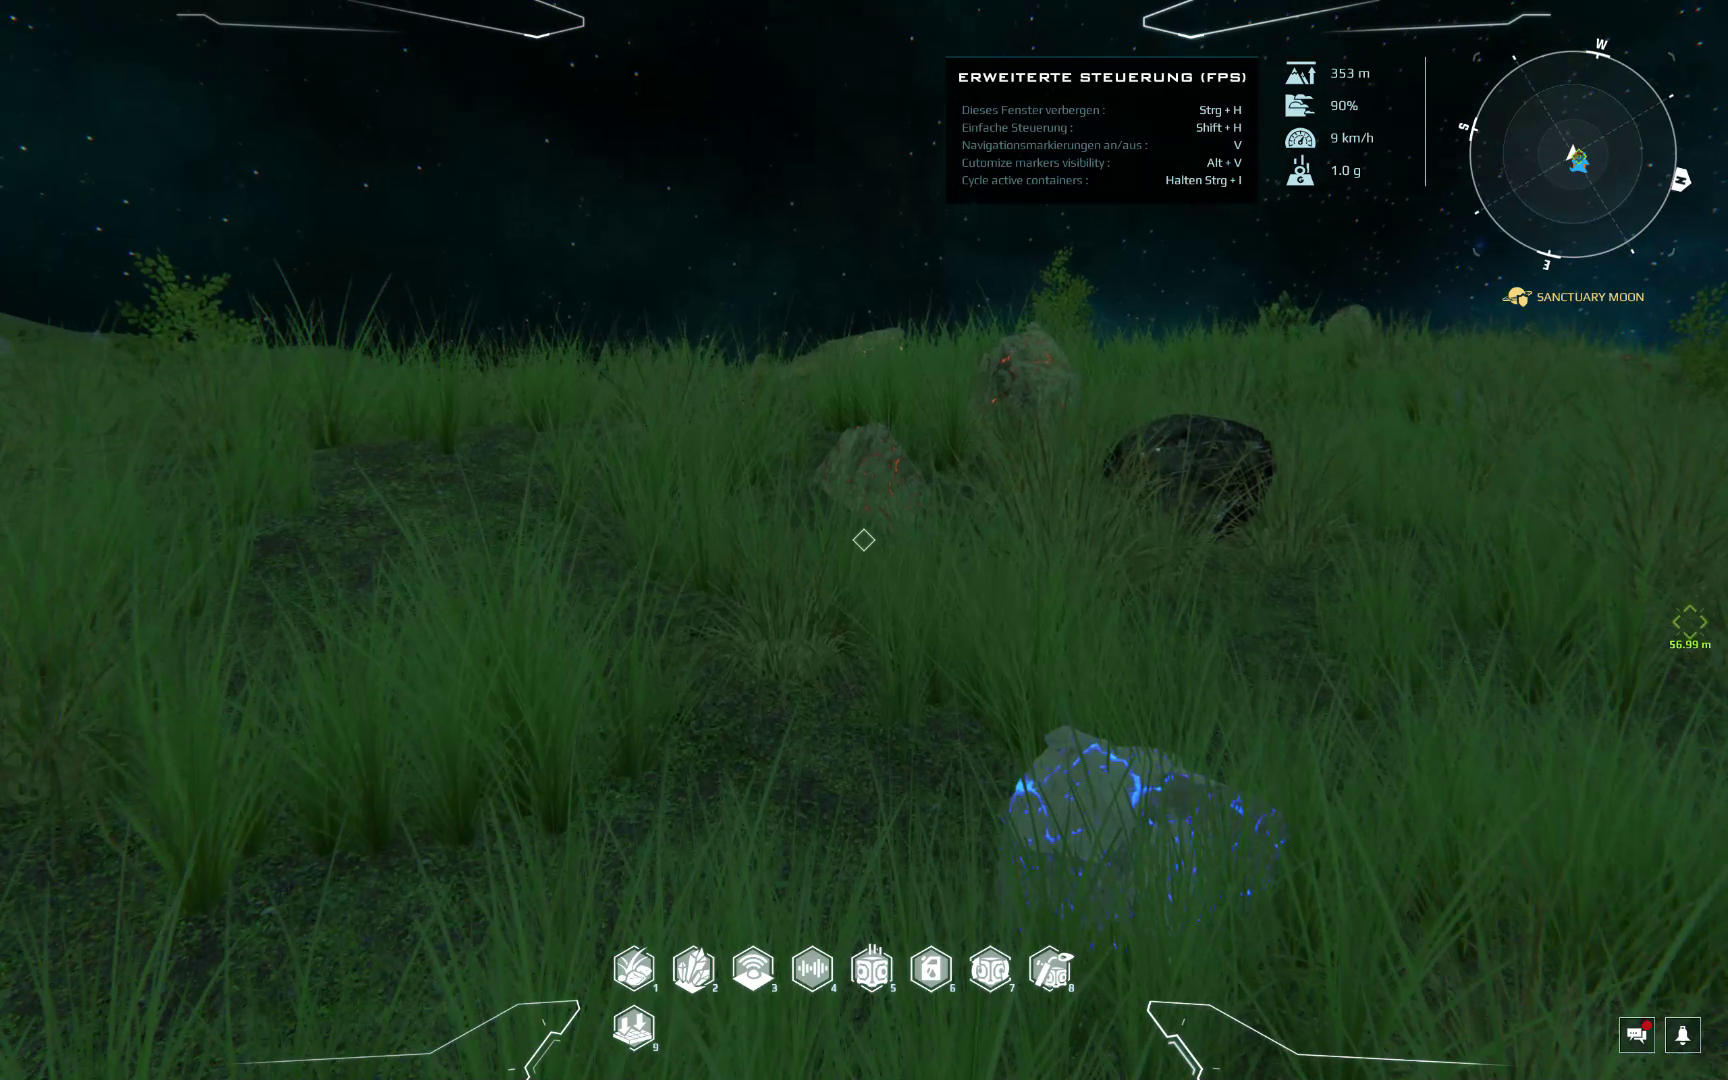Ore: (1001, 727, 1295, 934), (1106, 411, 1279, 531), (972, 326, 1076, 445), (816, 422, 936, 524), (797, 326, 908, 363)
